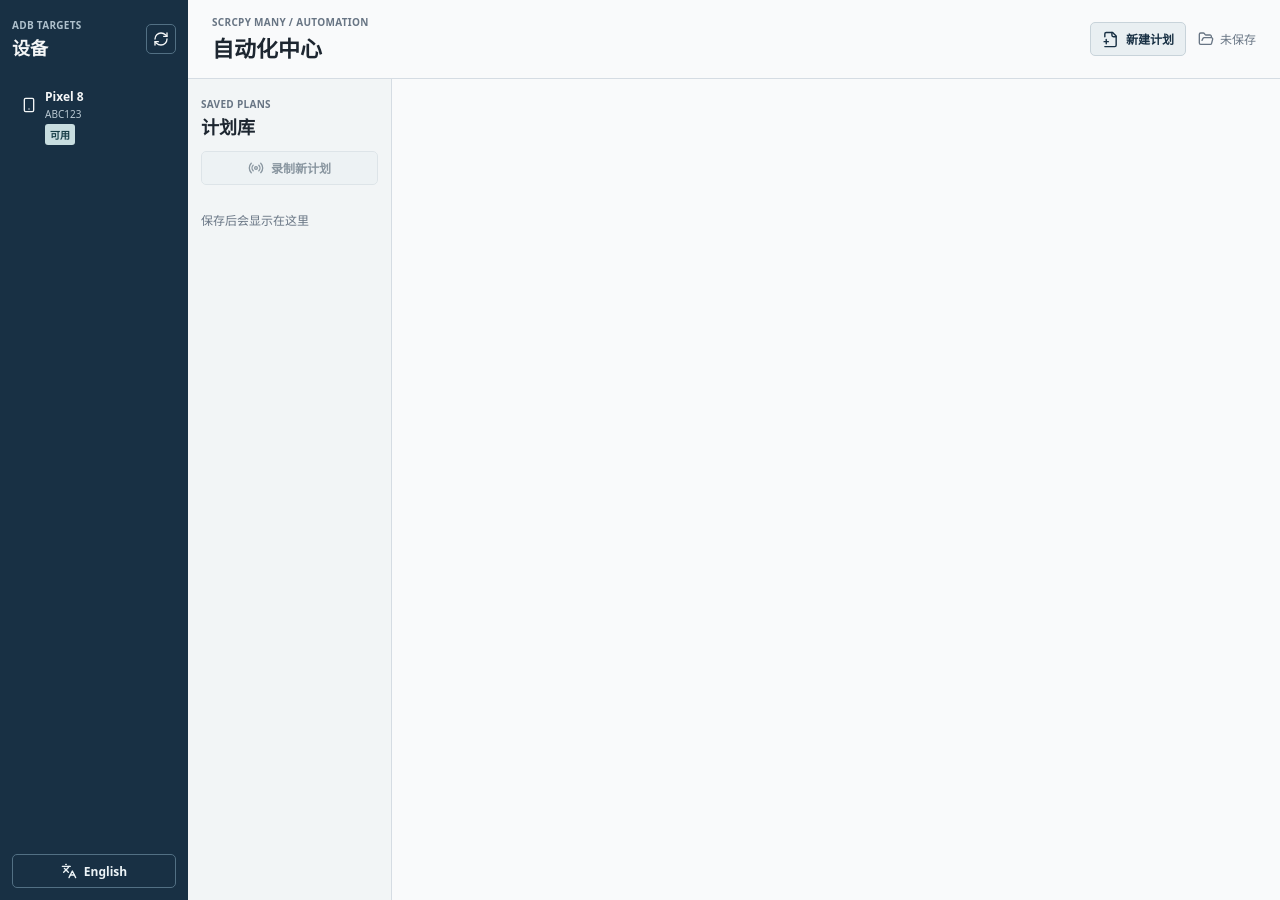
App › shows a stop action while a run is in progress
The width and height of the screenshot is (1280, 900).
Click the button "新建计划" at (1138,39), box [1090,22,1186,56]
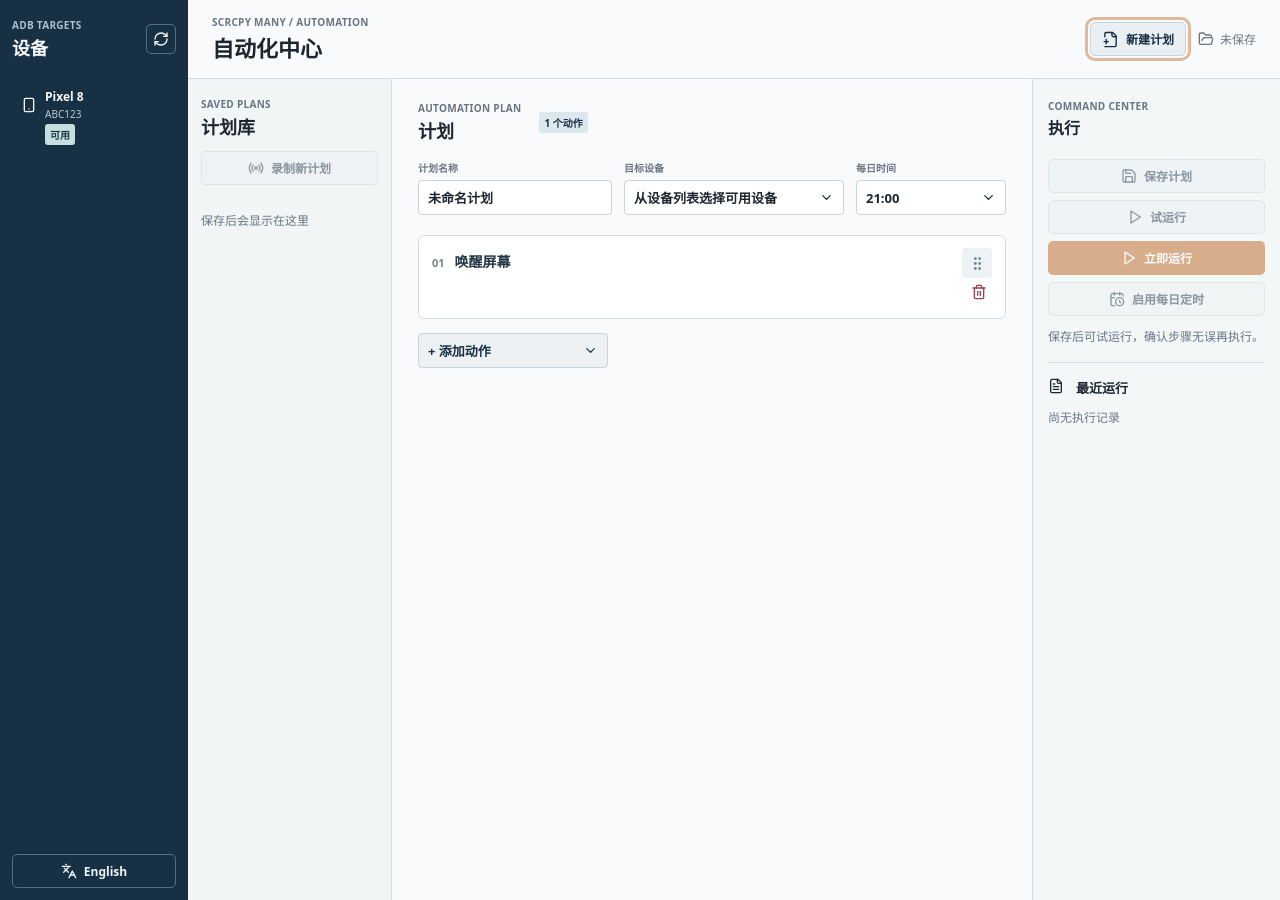
Click the button "Pixel 8 ABC123 可用" at (94,116), box [12,78,175,155]
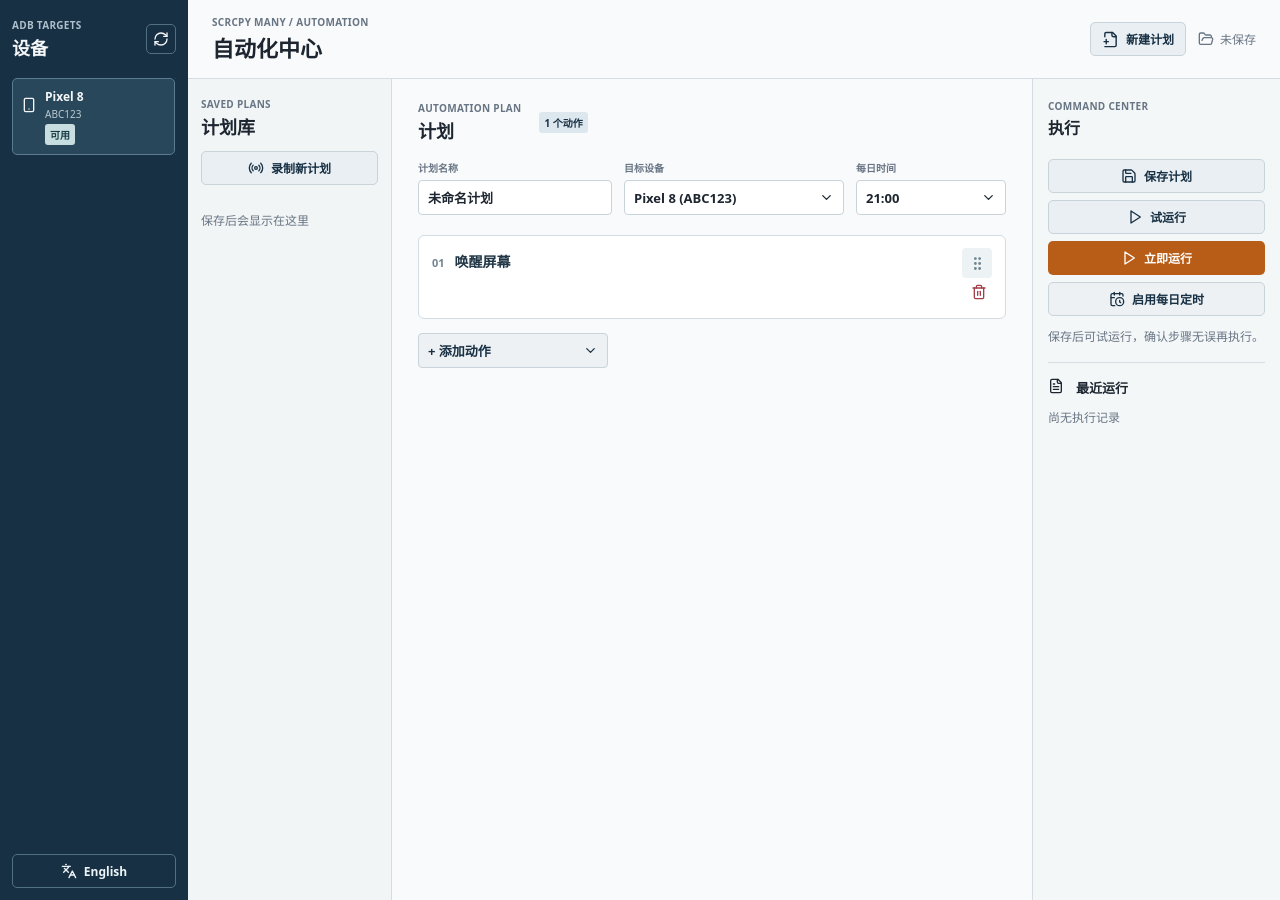
Click the button "保存计划" at (1156,176), box [1048,159,1265,193]
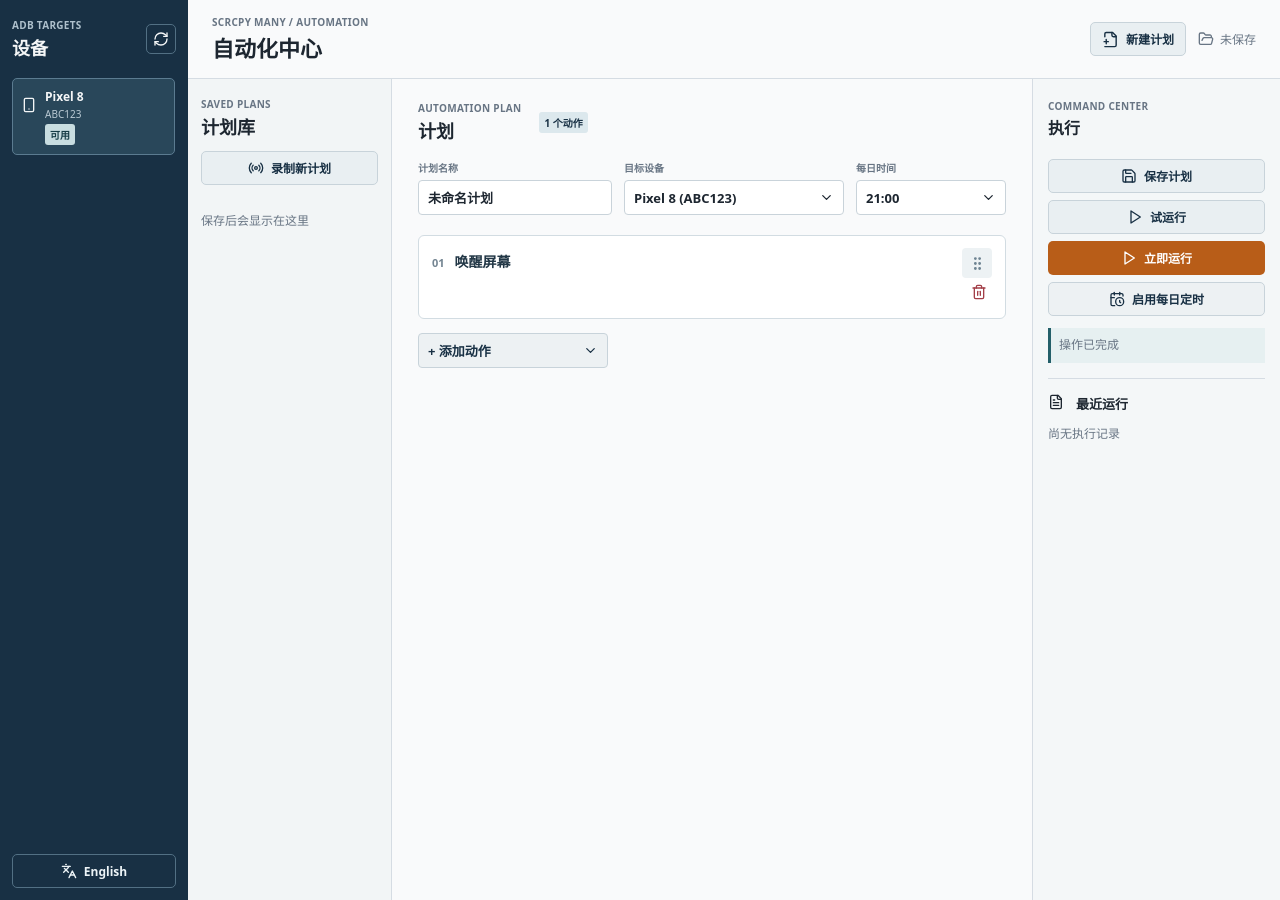
Click the button "立即运行" at (1156,258), box [1048,241,1265,275]
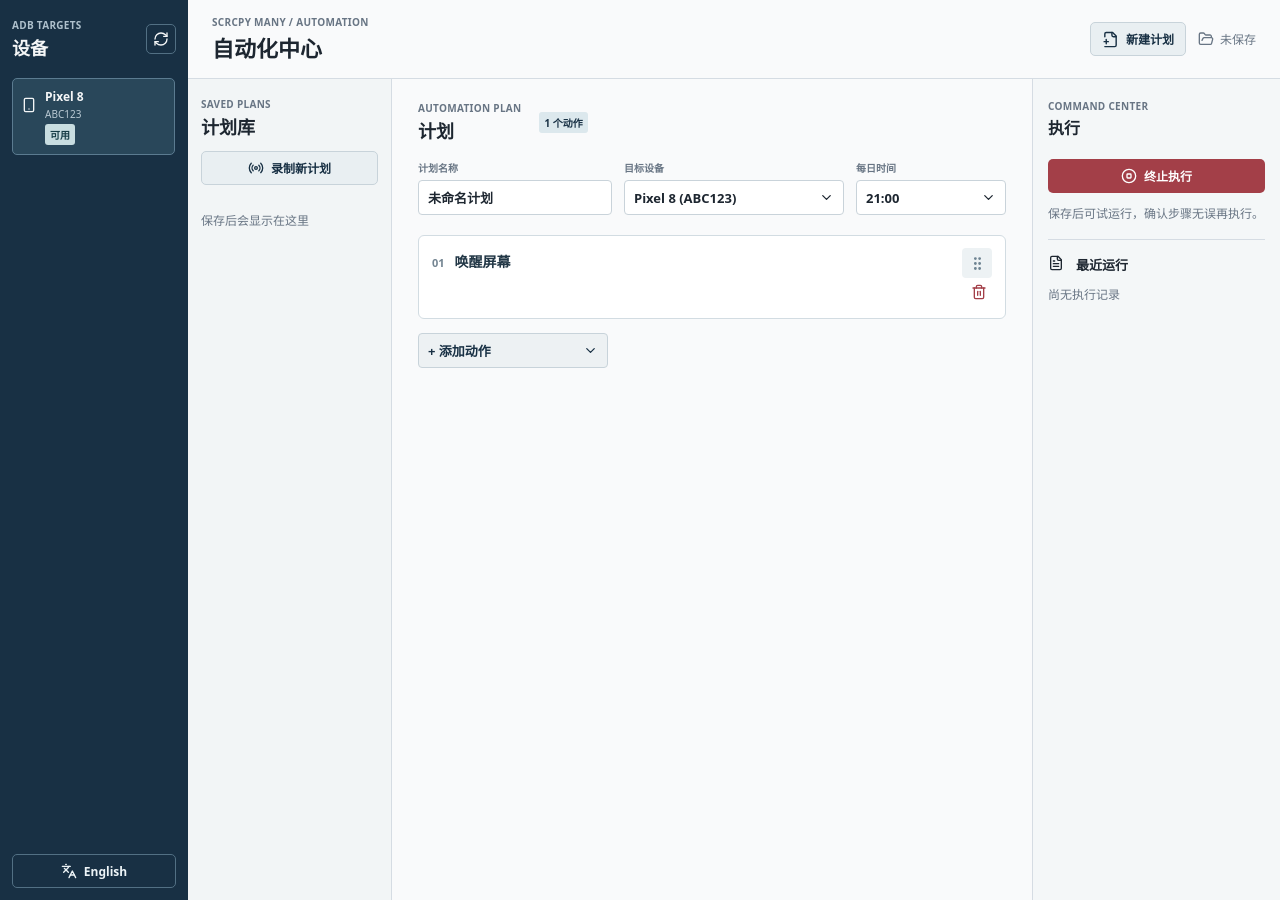
Expected: the button "终止执行" is shown, [1048,159,1265,193]
